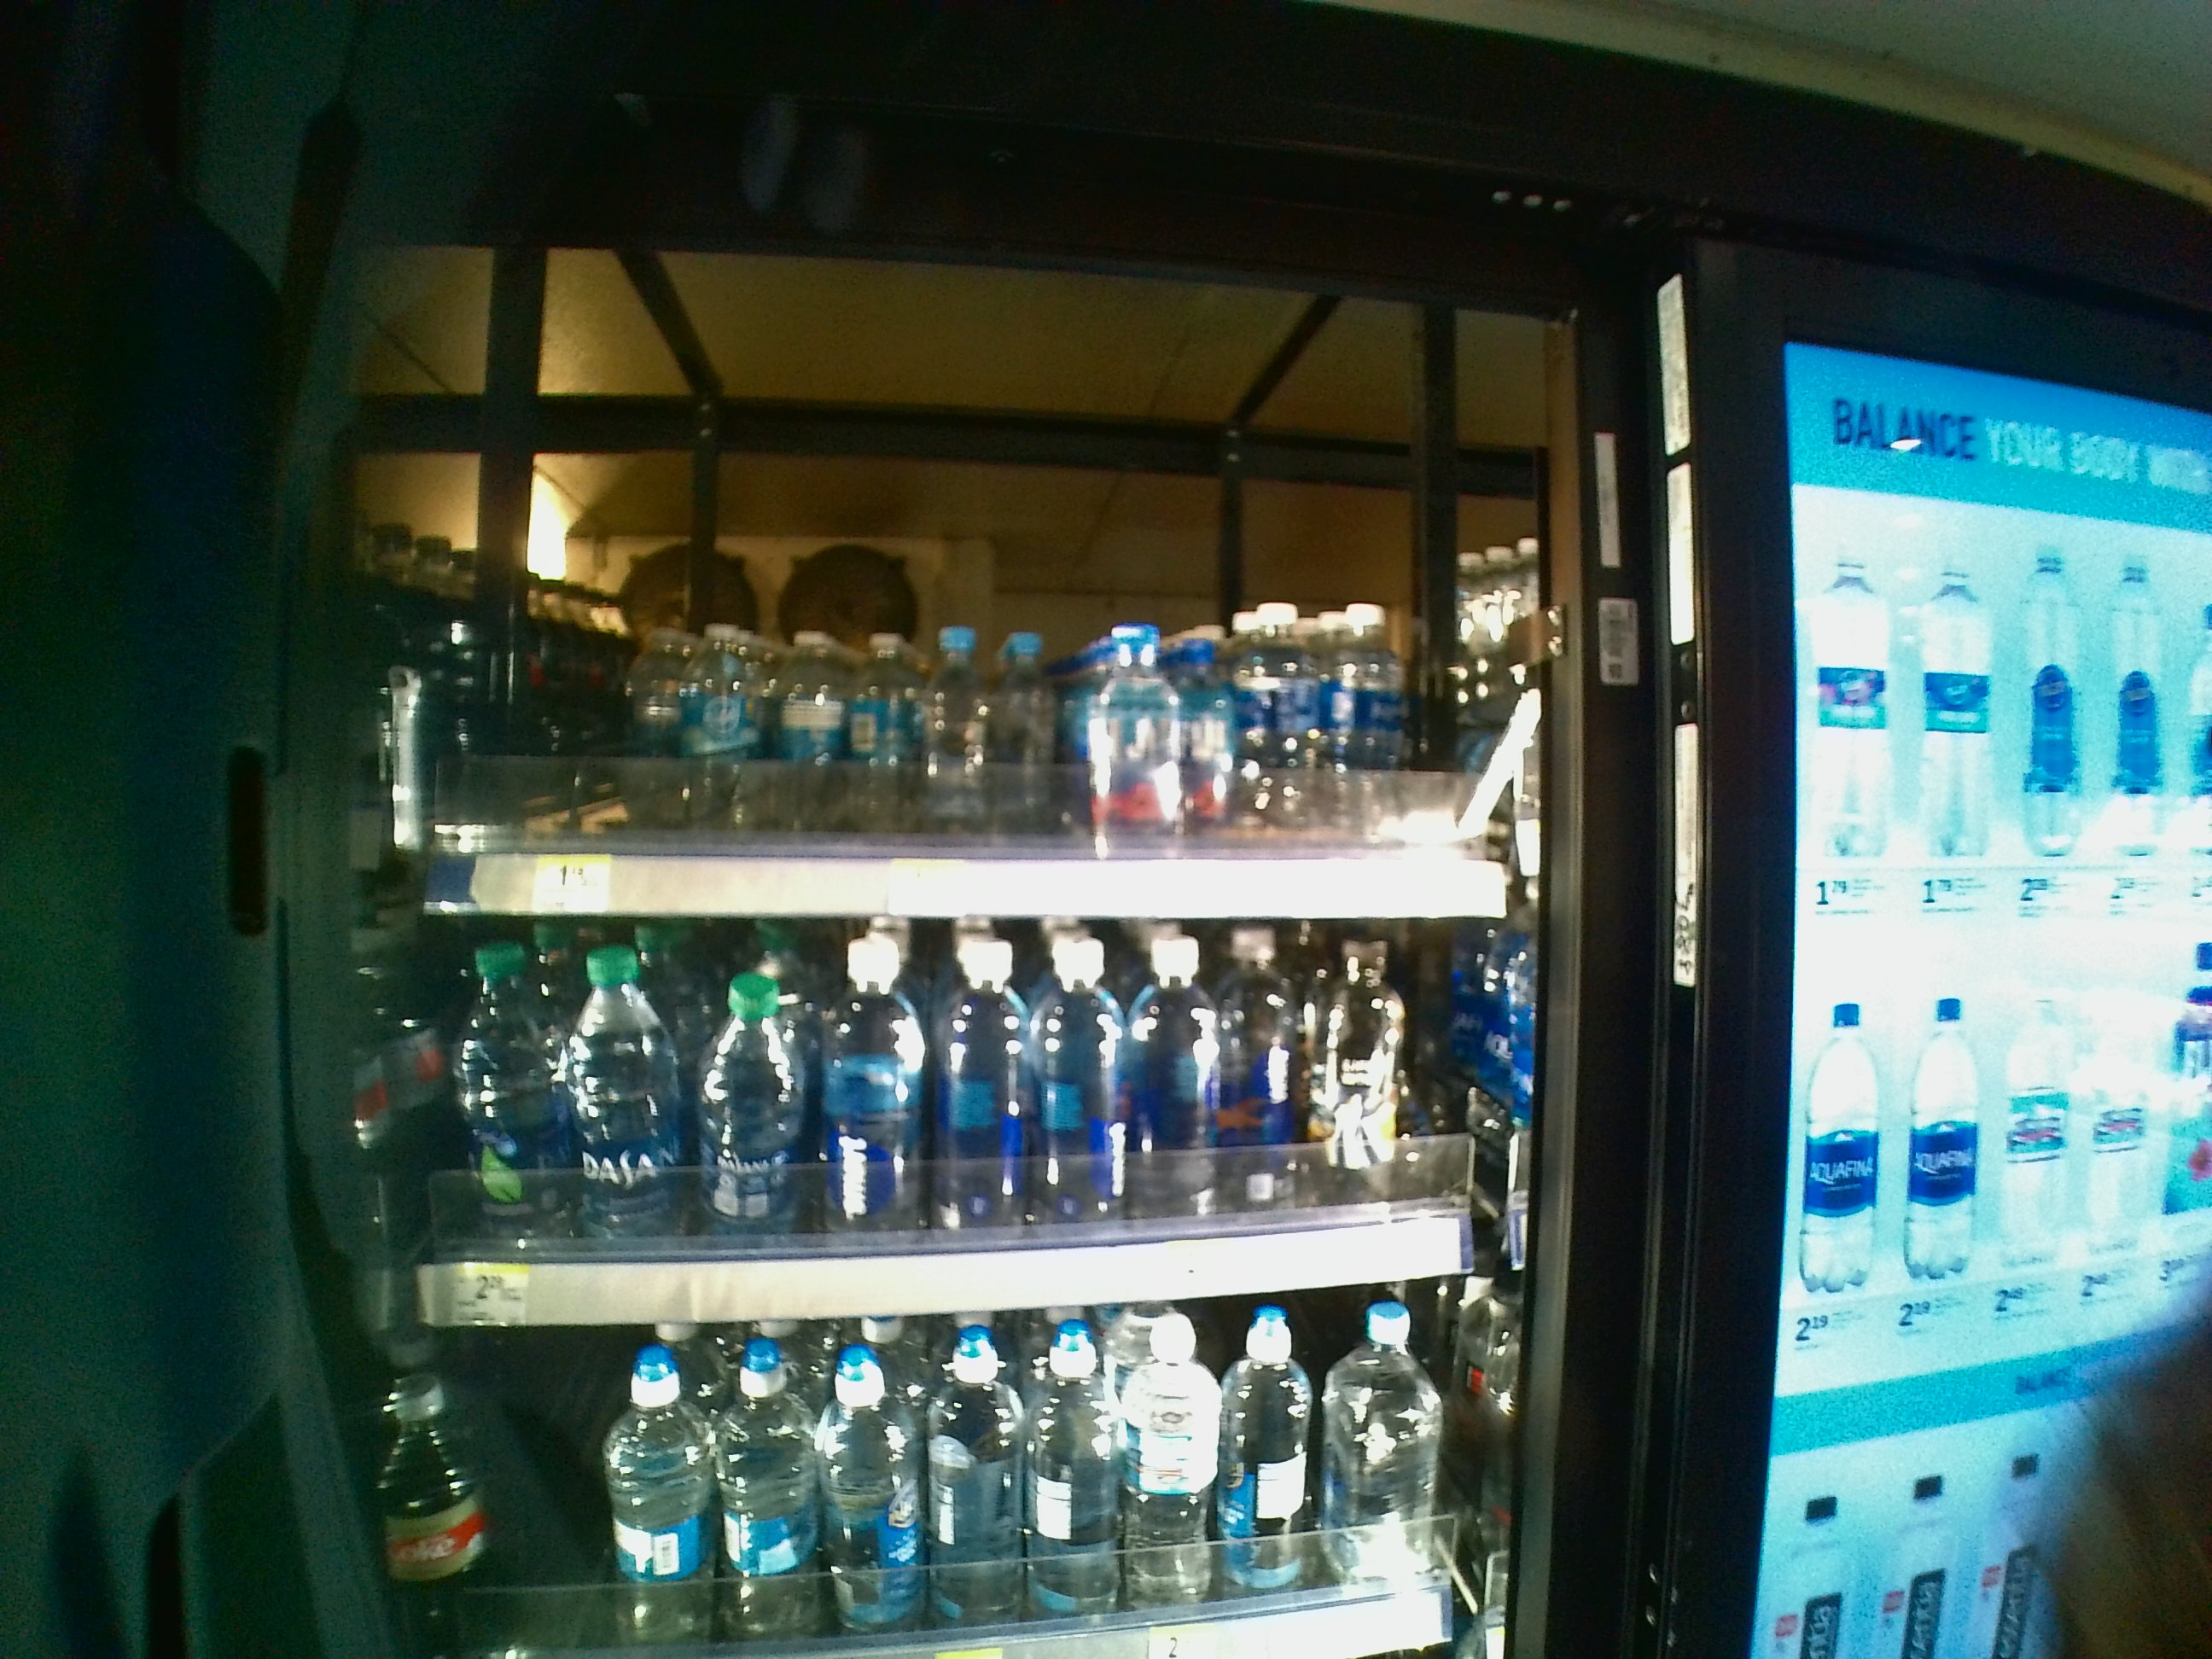shelf: (334, 364, 1531, 924), (334, 924, 1533, 1333)
